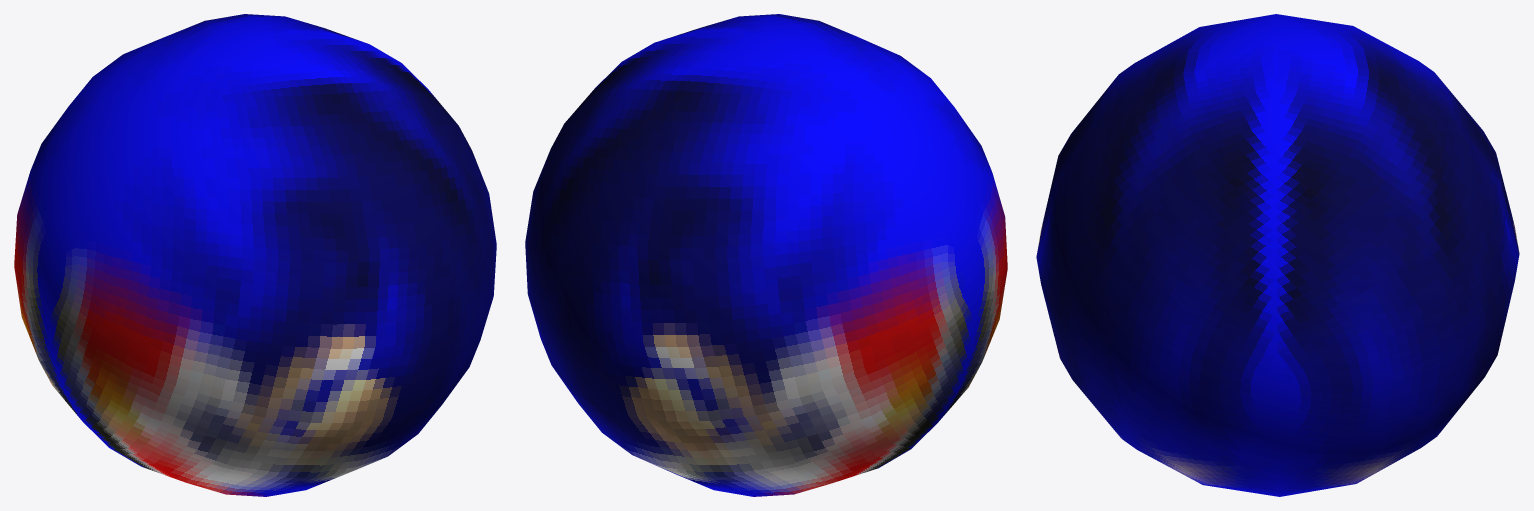
The model's file is SonicBall.fbx.
3 renders of one model, left to right at view 1: azimuth 30°, elevation 25°; view 2: azimuth 150°, elevation 25°; view 3: azimuth 270°, elevation 25°, orthographic.
Visible parts, largest first — view 1: Rollysonic; view 2: Rollysonic; view 3: Rollysonic.
Part boxes in pixels (x1,y1,x2,y2): Rollysonic: [14, 14, 496, 496]; Rollysonic: [525, 14, 1007, 496]; Rollysonic: [1036, 14, 1519, 496].
Bounding box in the file's own units: 5 × 5 × 5.
1 material, 1 textured.
